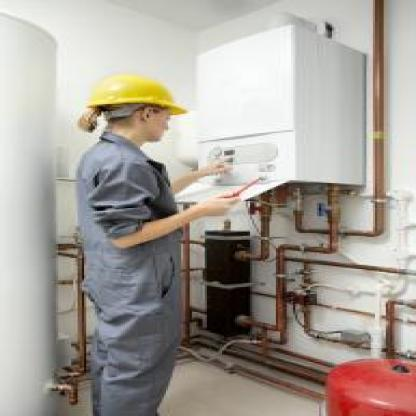helmet: (71, 61, 192, 154)
person: (43, 66, 257, 414)
